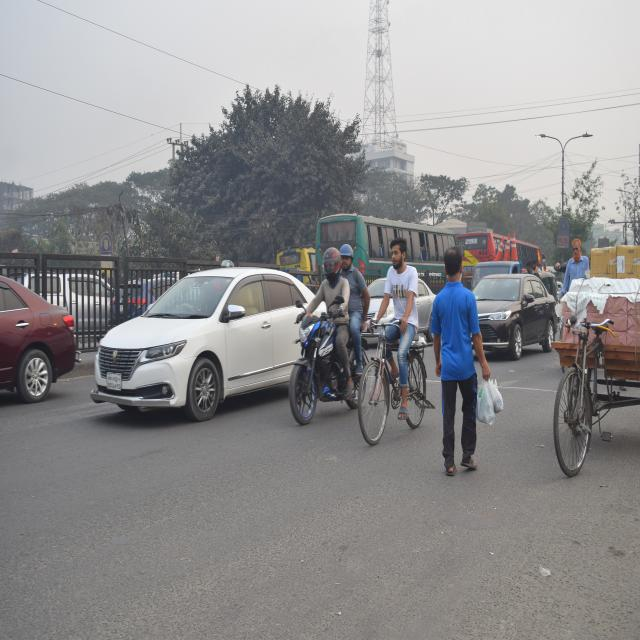car: (94, 244, 337, 468), (0, 234, 81, 415), (459, 268, 577, 382), (364, 268, 445, 363)
motorbike: (292, 299, 372, 430)
